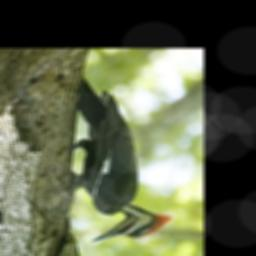Woodpecker: (69, 77, 173, 242)
